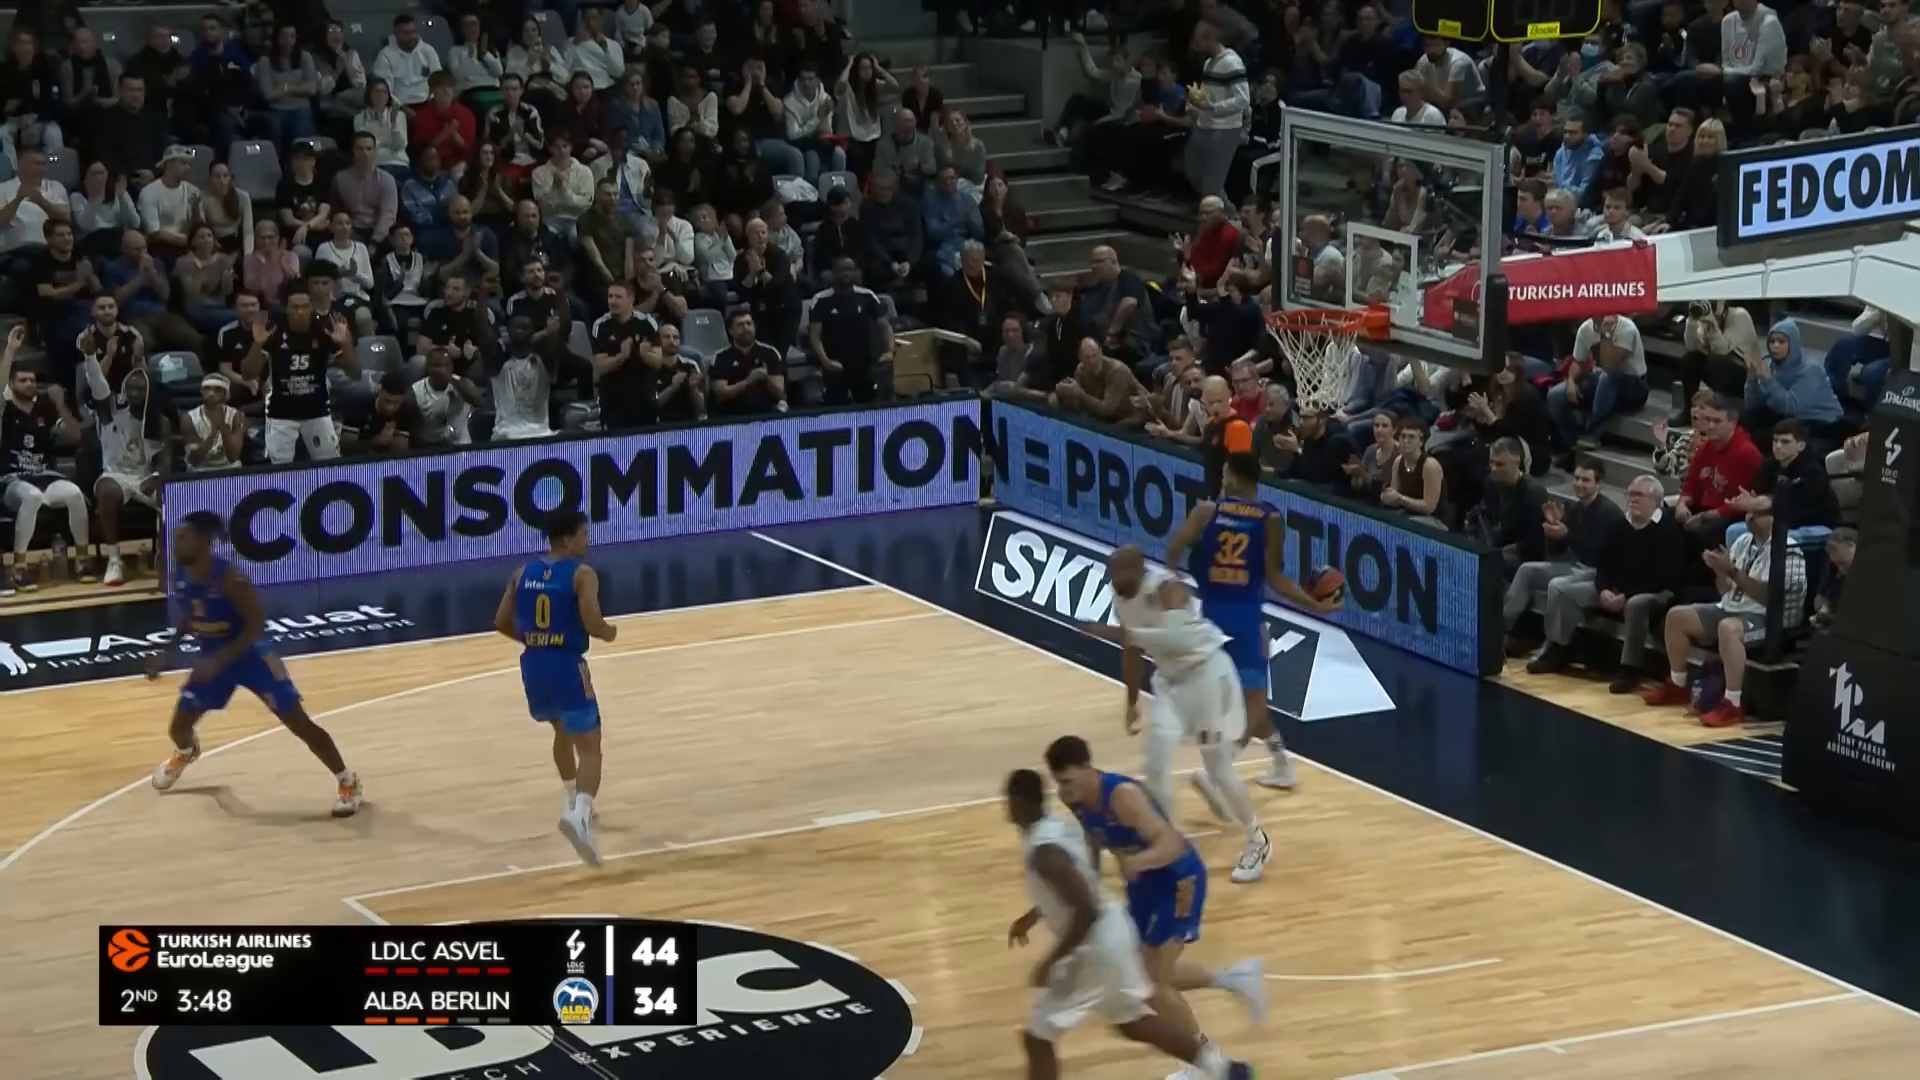ball: (1302, 560, 1352, 607)
net: (1261, 305, 1364, 419)
